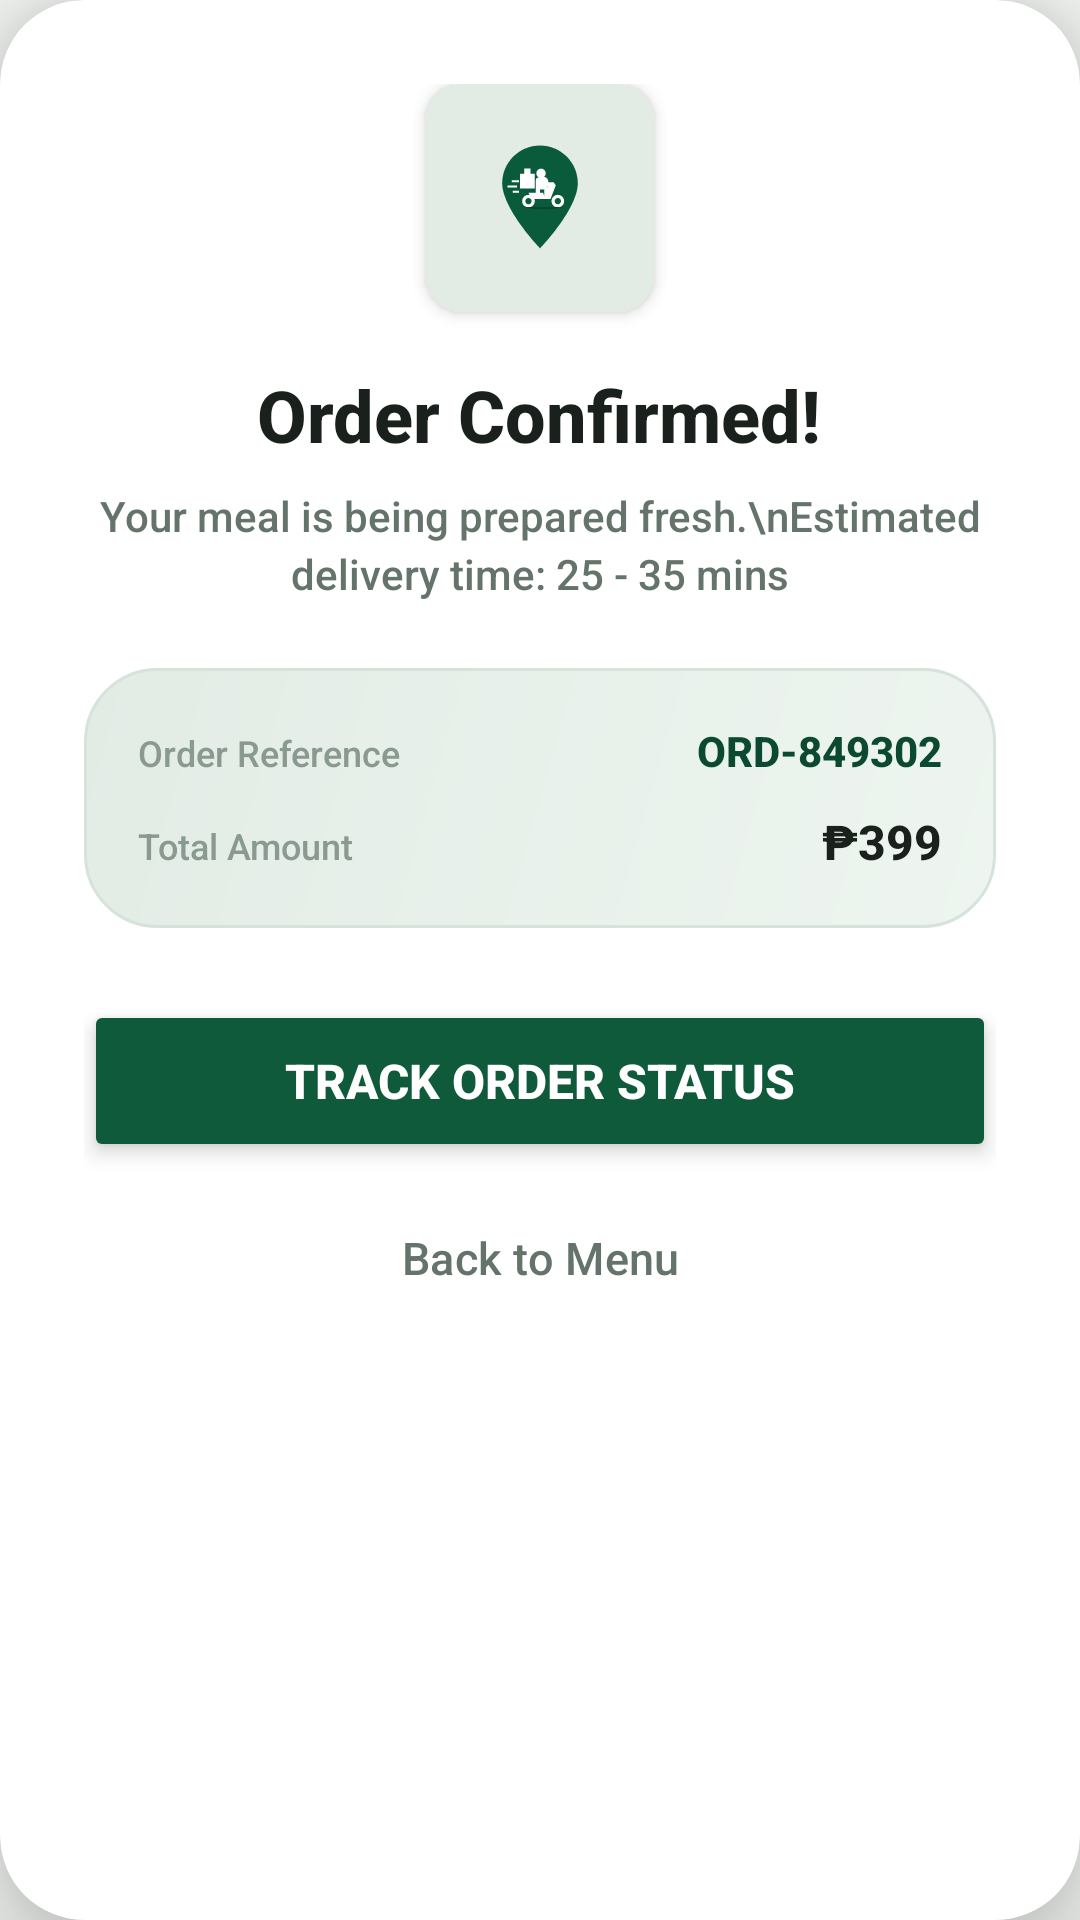

Where icons sit on this 1080 x 1920 app screen, as box=[x1, y1, x2, y2]:
scooter pin: box=[502, 145, 578, 248]
